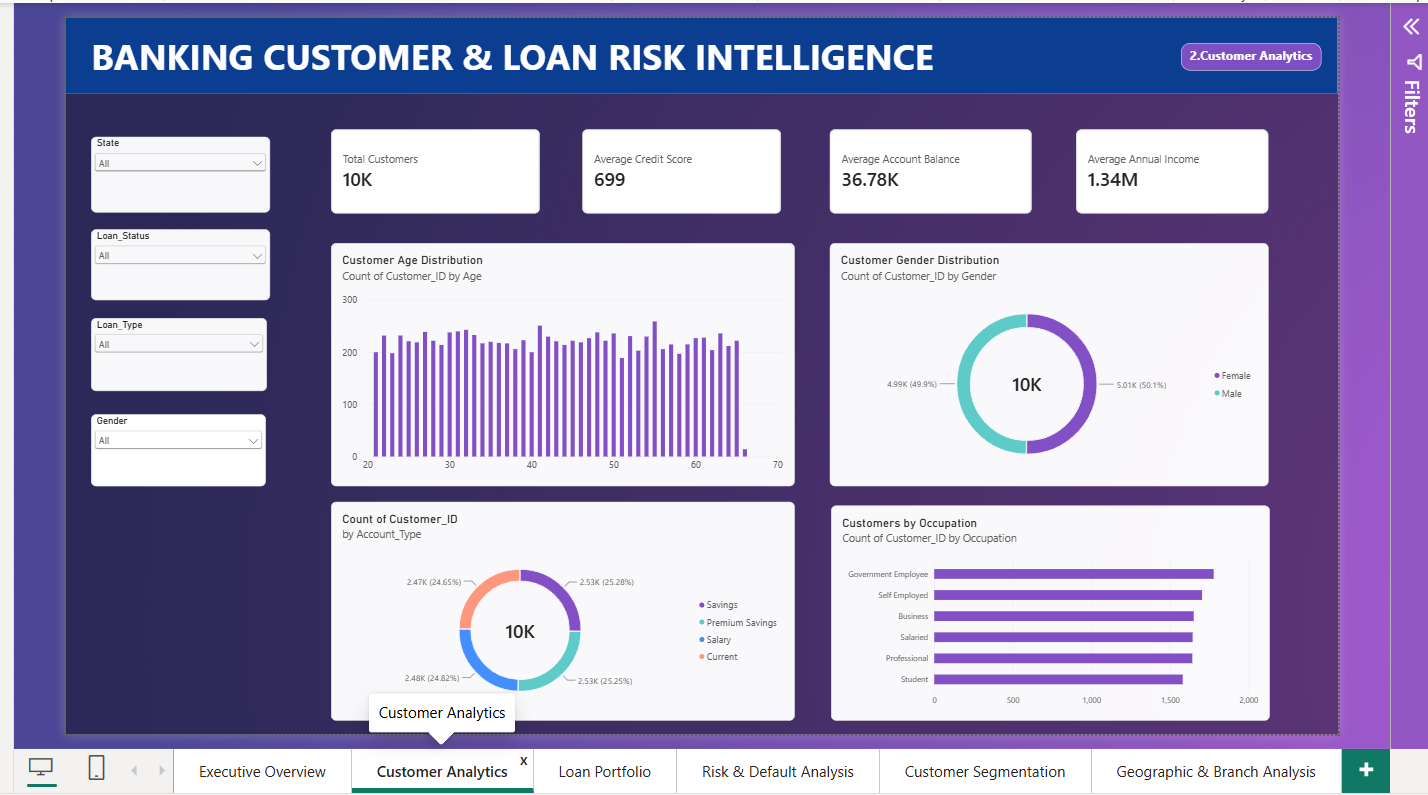

What the dashboard file says about the page in this screenshot:
{"tool":"powerbi","page":{"name":"Customer Analytics","canvas":[1920,1080],"ordinal":1},"visuals":[{"type":"cardVisual","fields":{"Data":["customers.Total Customers"]},"box":[400,167.5,315,127.5],"z":0},{"type":"cardVisual","fields":{"Data":["customers.Average Credit Score"]},"box":[780,167.5,300,127.5],"z":1000},{"type":"cardVisual","fields":{"Data":["customers.Average Account Balance"]},"box":[1152.5,167.5,305,127.5],"z":2000},{"type":"cardVisual","fields":{"Data":["customers.Average Annual Income"]},"box":[1525,167.5,290,127.5],"z":3000},{"type":"columnChart","title":"Customer Age Distribution","fields":{"Category":["customers.Age"],"Y":["CountNonNull(customers.Customer_ID)"]},"box":[400,340,700,367.5],"z":4000},{"type":"donutChart","title":"Customer Gender Distribution","fields":{"Category":["customers.Gender"],"Y":["CountNonNull(customers.Customer_ID)"]},"box":[1152.5,340,662.5,367.5],"z":5000},{"type":"donutChart","fields":{"Category":["customers.Account_Type"],"Y":["CountNonNull(customers.Customer_ID)"]},"box":[400,730,700,330],"z":6000},{"type":"barChart","title":"Customers by Occupation","fields":{"Category":["customers.Occupation"],"Y":["CountNonNull(customers.Customer_ID)"]},"box":[1155,735,662.5,325],"z":7000},{"type":"shape","box":[0,0,1918.9,113.7],"z":8000},{"type":"slicer","fields":{"Values":["customers.State"]},"box":[38.6,180,270,114.3],"z":9000},{"type":"slicer","fields":{"Values":["loans.Loan_Type"]},"box":[38.6,452.9,265.7,110],"z":10000},{"type":"slicer","fields":{"Values":["loans.Loan_Status"]},"box":[38.6,318.6,270,107.1],"z":11000},{"type":"slicer","fields":{"Values":["customers.Gender"]},"box":[38.6,598.6,264.3,108.6],"z":12000},{"type":"textbox","box":[1682.7,38.2,211.8,41.8],"z":13000}]}

Visuals, with their boxes on the page's 1920x1080 design canvas (x1, y1, x2, y2). These are canvas units, not pixel positions in the 1428x795 screenshot, which may show the page scaled, cropped or inside an application window:
cardVisual - customers.Total Customers: 400 168 715 295
cardVisual - customers.Average Credit Score: 780 168 1080 295
cardVisual - customers.Average Account Balance: 1152 168 1458 295
cardVisual - customers.Average Annual Income: 1525 168 1815 295
"Customer Age Distribution" columnChart: 400 340 1100 708
"Customer Gender Distribution" donutChart: 1152 340 1815 708
donutChart - customers.Account_Type x CountNonNull(customers.Customer_ID): 400 730 1100 1060
"Customers by Occupation" barChart: 1155 735 1818 1060
shape: 0 0 1919 114
slicer - customers.State: 39 180 309 294
slicer - loans.Loan_Type: 39 453 304 563
slicer - loans.Loan_Status: 39 319 309 426
slicer - customers.Gender: 39 599 303 707
textbox: 1683 38 1894 80
